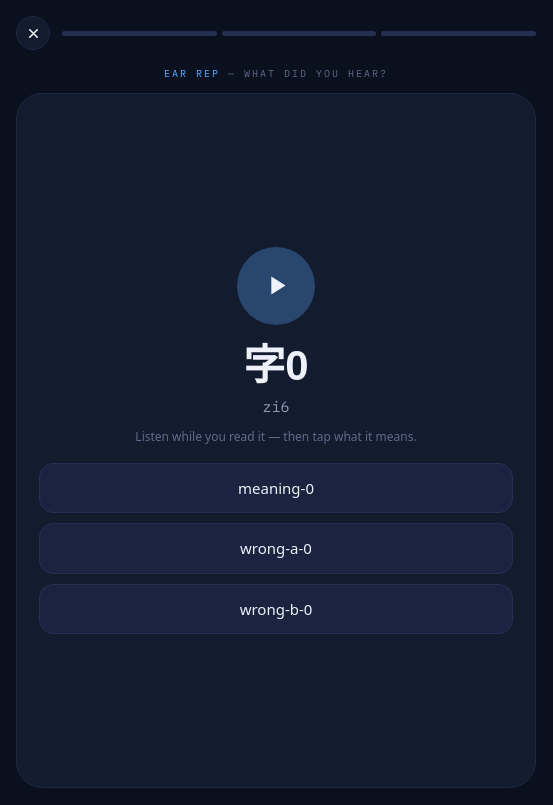
Scenario: SessionOverlay — quick ear drill › advances through all reps to the done screen when answered correctly
This screenshot has width=553, height=805.
What coordinates should you click on to do the following:
click the button "meaning-0"
I would click on:
 (276, 488)
Its box is left=39, top=463, right=513, bottom=513.
Wait 750 ms
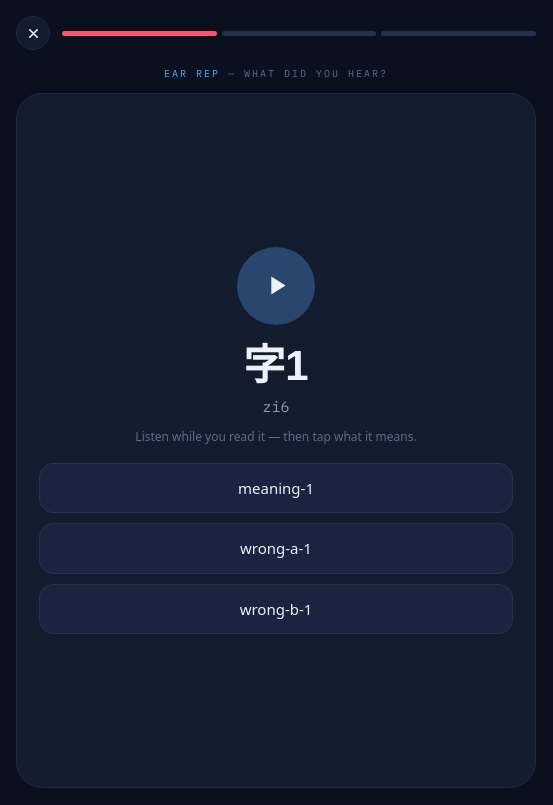
What coordinates should you click on to do the following:
click the button "meaning-1"
I would click on:
 (276, 488)
Its box is left=39, top=463, right=513, bottom=513.
Wait 750 ms
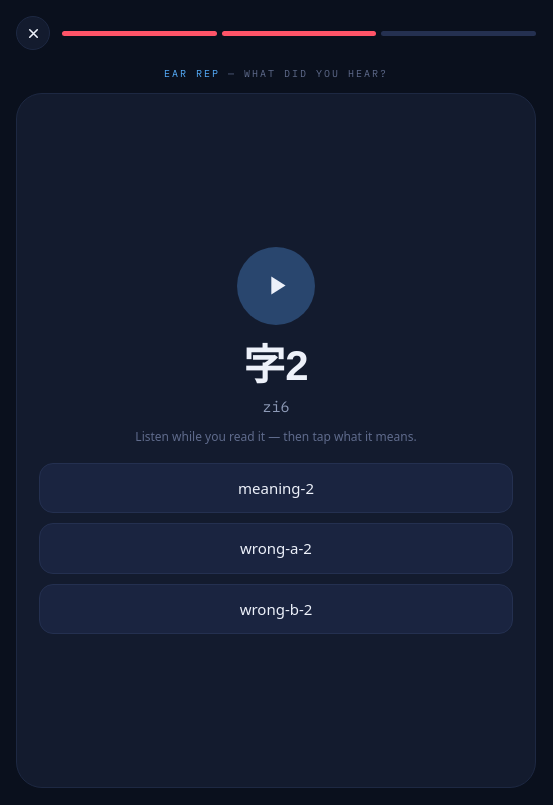
What coordinates should you click on to do the following:
click the button "meaning-2"
I would click on:
 (276, 488)
Its box is left=39, top=463, right=513, bottom=513.
Wait 750 ms
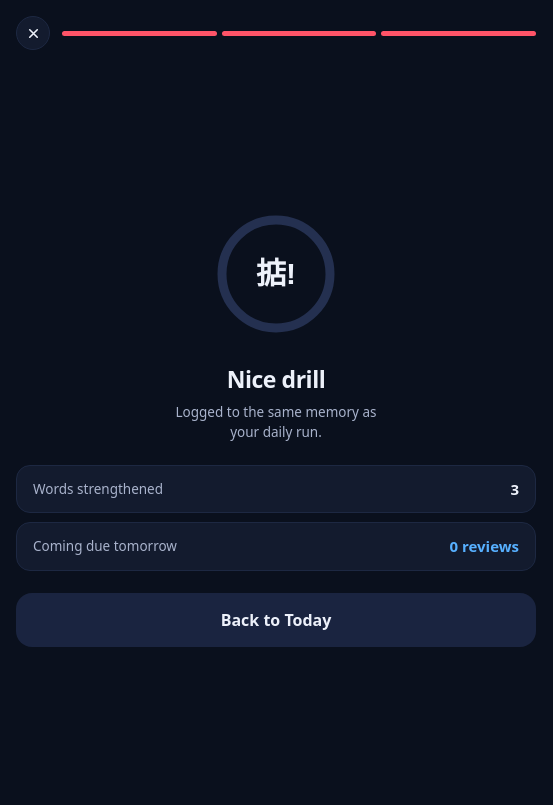
Check: the heading "Nice drill" is shown, box left=227, top=362, right=325, bottom=396
